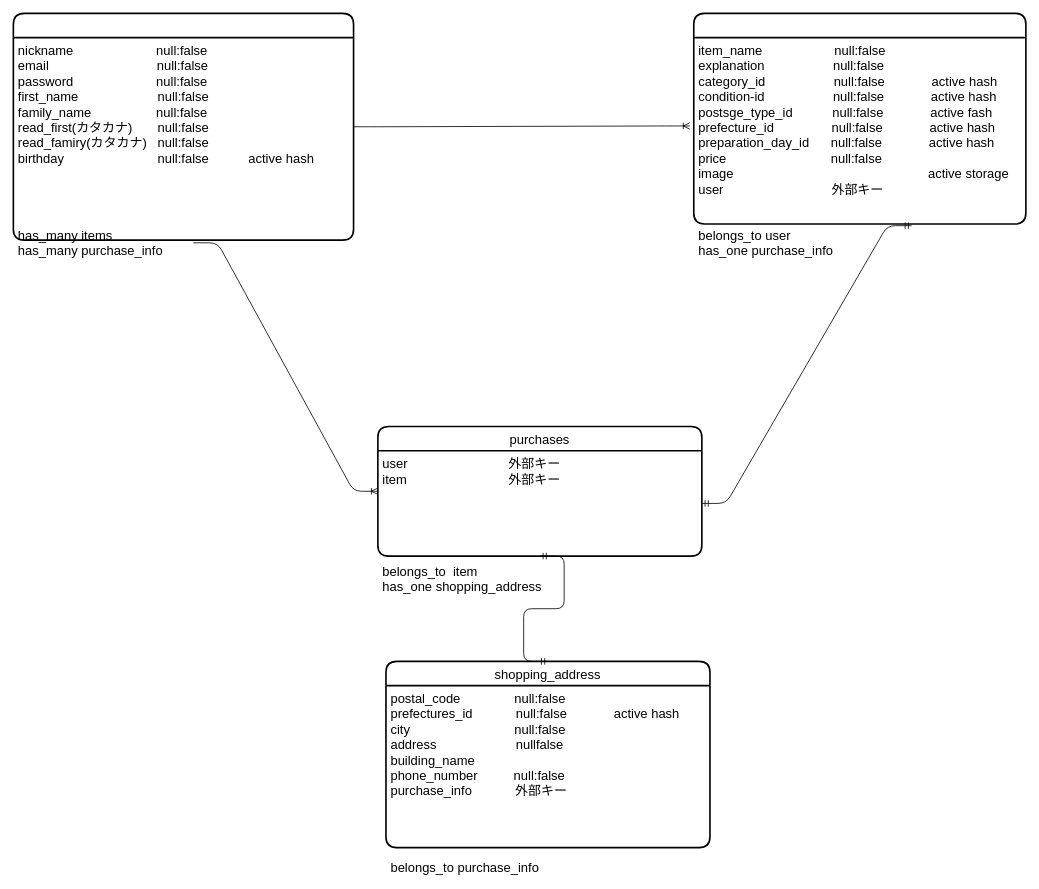
Image size: 1039x889. Some labels were removed from this diagram. Each missing label, with the box of its shape:
items: (693, 12, 1026, 224)
users: (12, 12, 354, 241)
